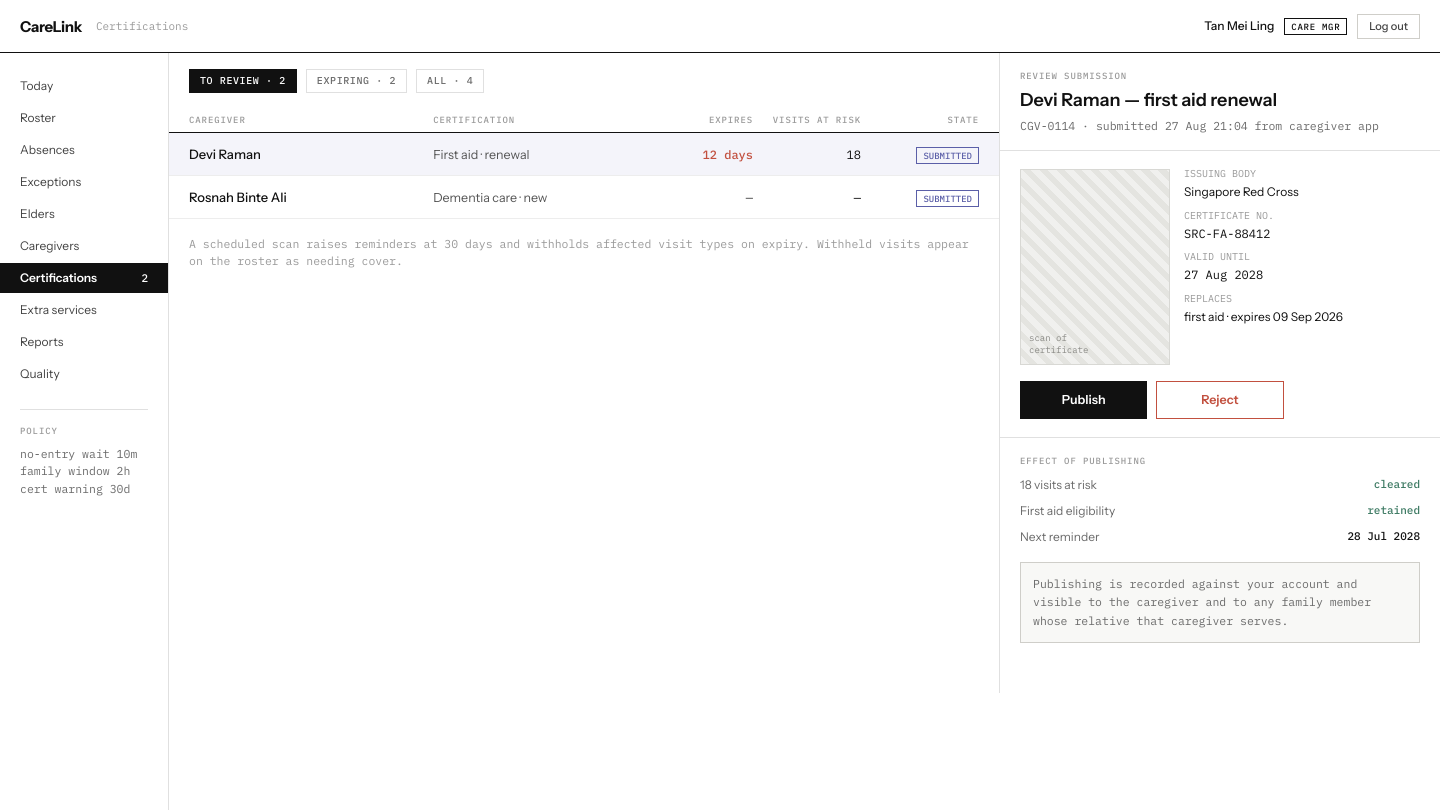
Scenario: shows why a publish failed in the panel
This screenshot has width=1440, height=810.
Expected: the heading "Devi Raman — first aid renewal" is shown, [1020,89,1277,111]
Click the button "Publish".
click(1084, 400)  # box [1020,381,1147,419]
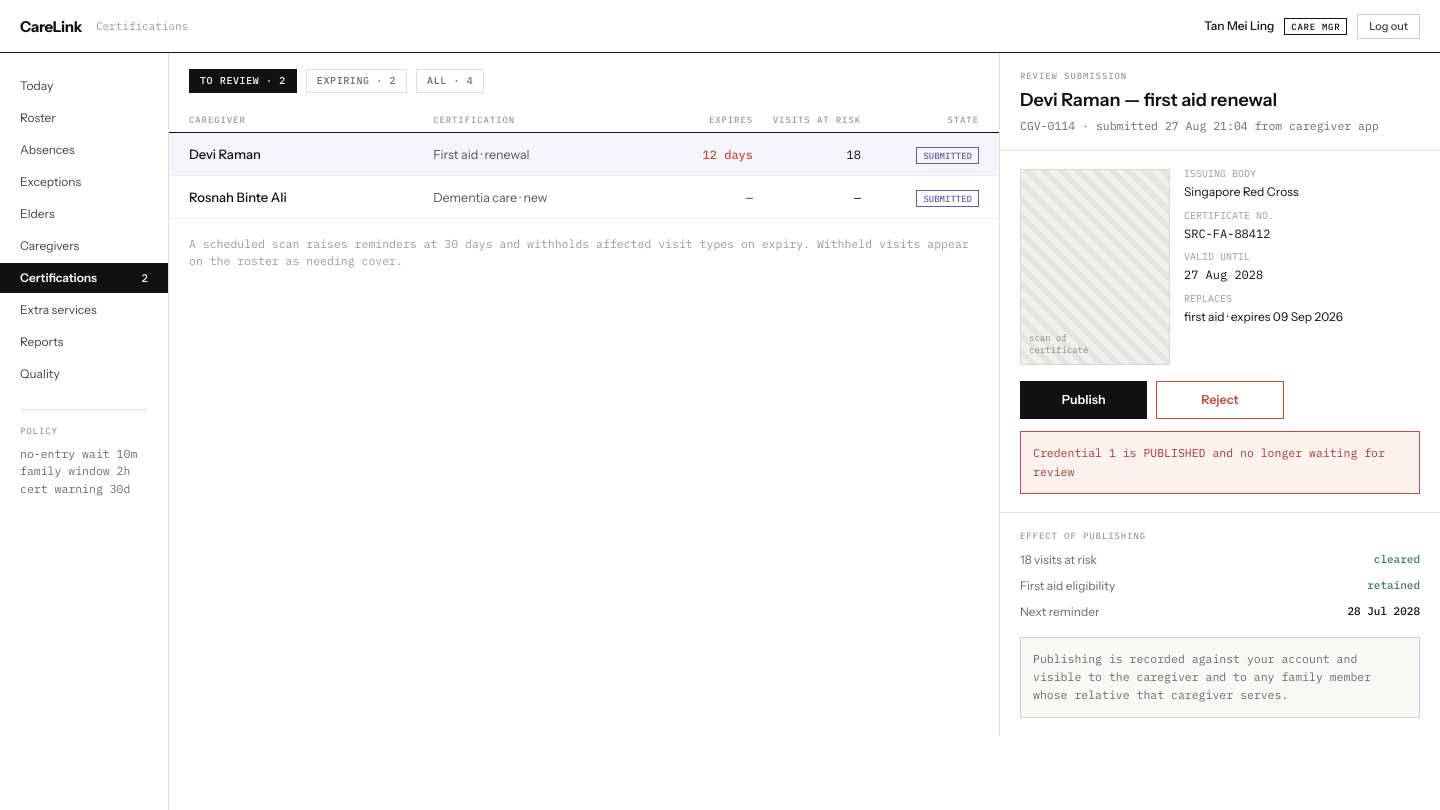
Now the message shows "no longer waiting for review", box [1033,445,1385,479]
